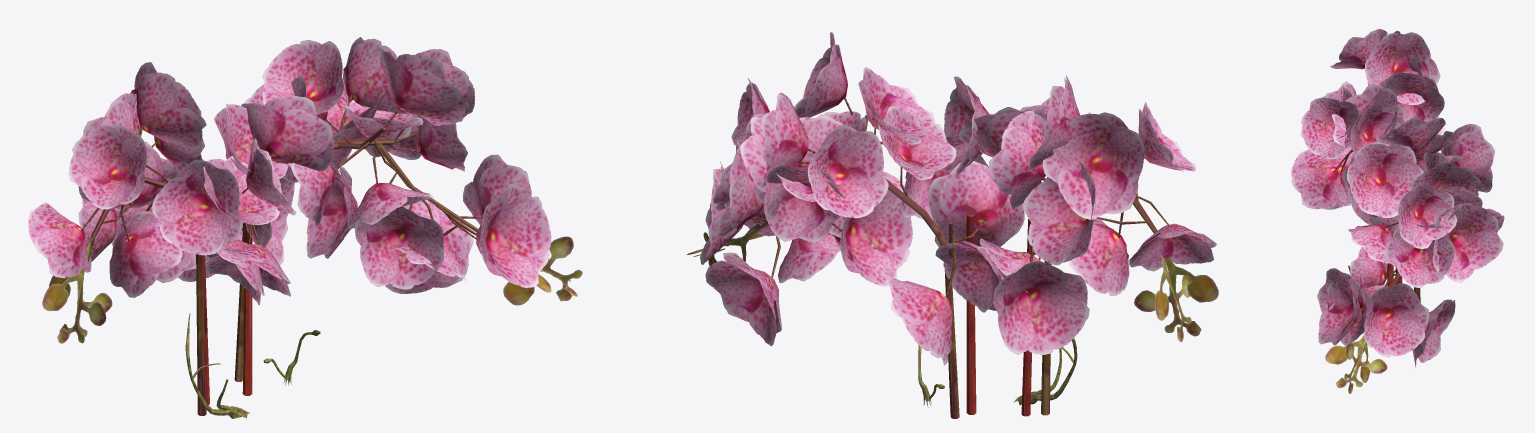
3 renders of one model, left to right at view 1: azimuth 30°, elevation 25°; view 2: azimuth 150°, elevation 25°; view 3: azimuth 270°, elevation 25°, orthographic. The views are drawn at different scales.
Parts seen in each view (by area): view 1: fa4a8b04; view 2: fa4a8b04; view 3: fa4a8b04.
Boxes of the visible parts, left/top/right/bottom form: fa4a8b04: left=28, top=37, right=582, bottom=418; fa4a8b04: left=686, top=32, right=1218, bottom=418; fa4a8b04: left=1291, top=29, right=1504, bottom=393.
Bounding box in the file's own units: 0.2659 × 0.1637 × 0.131.
1 material, 1 textured.
